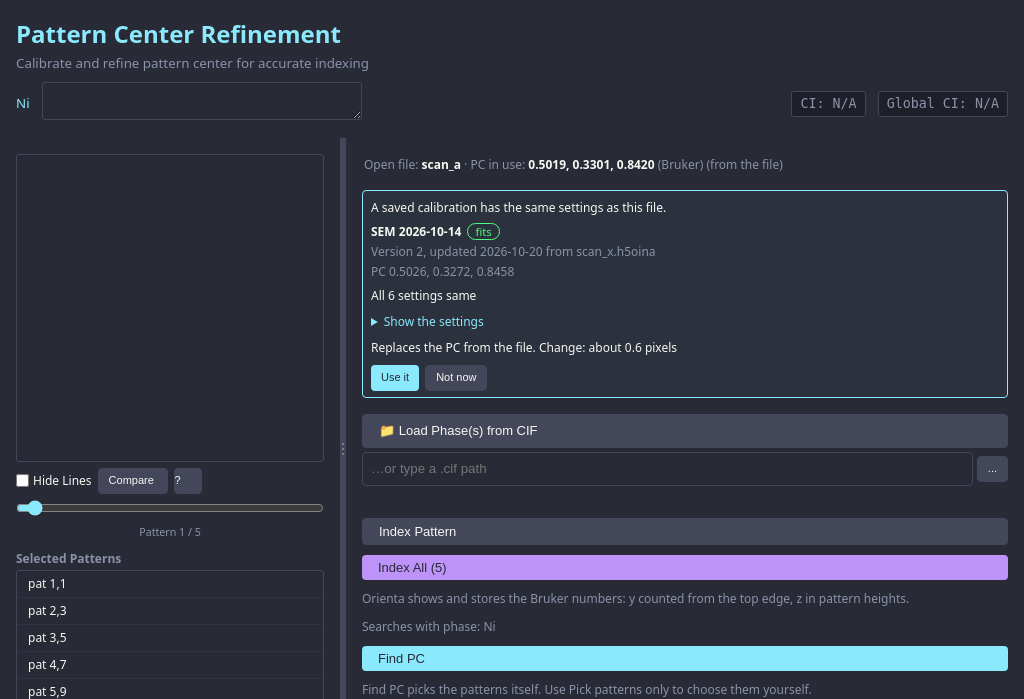
Test: Save and Apply after a saved calibration was used › on an open copy that the apply wrote too there is no such line
Click the button "Use it" at (395, 378), box [371,365,419,391]
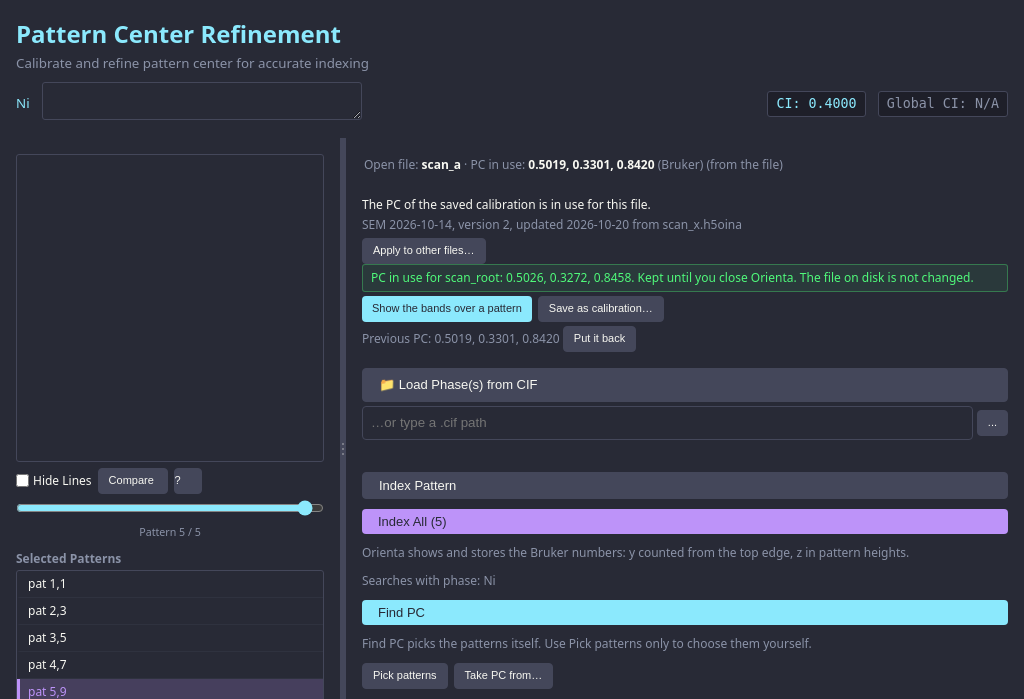
expect the element with test id "calibration-grant" is shown: met, box [362,196,1008,352]
